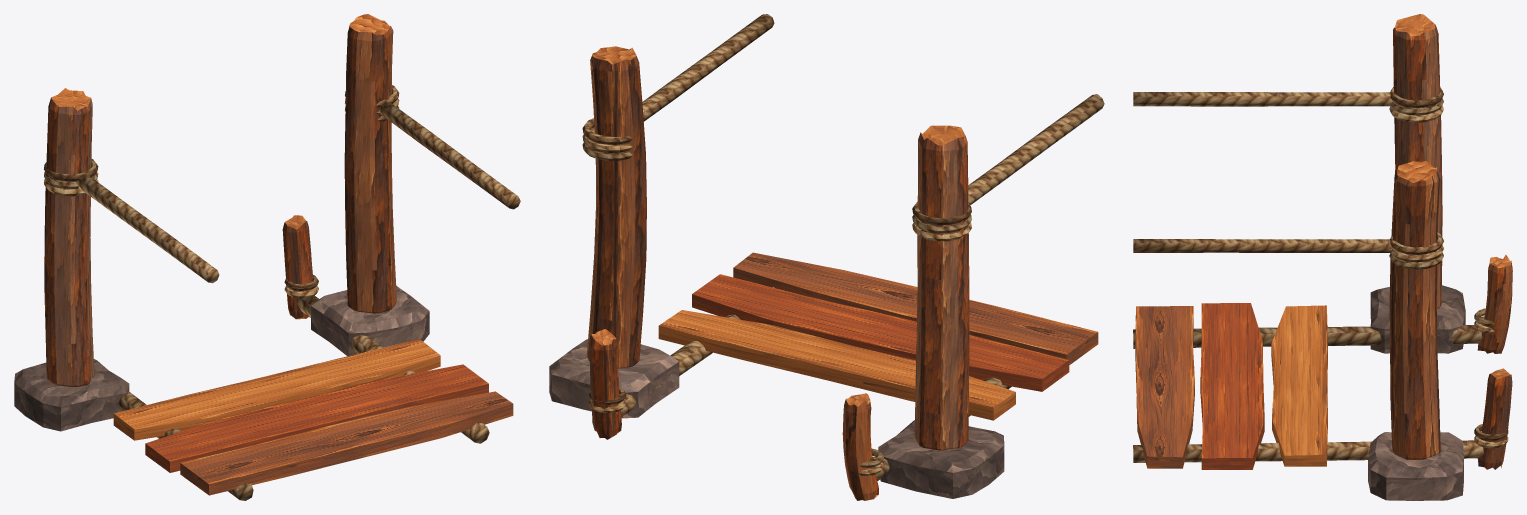
The model's file is bridge_posts.glb.
The picture shows the model from 3 angles, left to right: view 1: azimuth 30°, elevation 25°; view 2: azimuth 150°, elevation 25°; view 3: azimuth 270°, elevation 25°; orthographic projection. The views are drawn at different scales.
Parts seen in each view (by area): view 1: model; view 2: model; view 3: model.
Boxes of the visible parts, left/top/right/bottom form: model: left=14, top=14, right=520, bottom=500; model: left=549, top=14, right=1104, bottom=500; model: left=1133, top=14, right=1512, bottom=500.
Size of the model in its own units: 1.65 by 1.28 by 1.4.
Materials: 20 (20 with a texture image).
